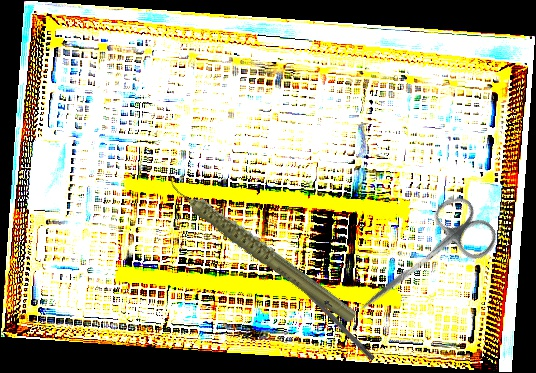Handpiece: (162, 138, 360, 356)
Iris Scissors: (341, 187, 504, 338)
Pusher: (286, 269, 377, 362)
